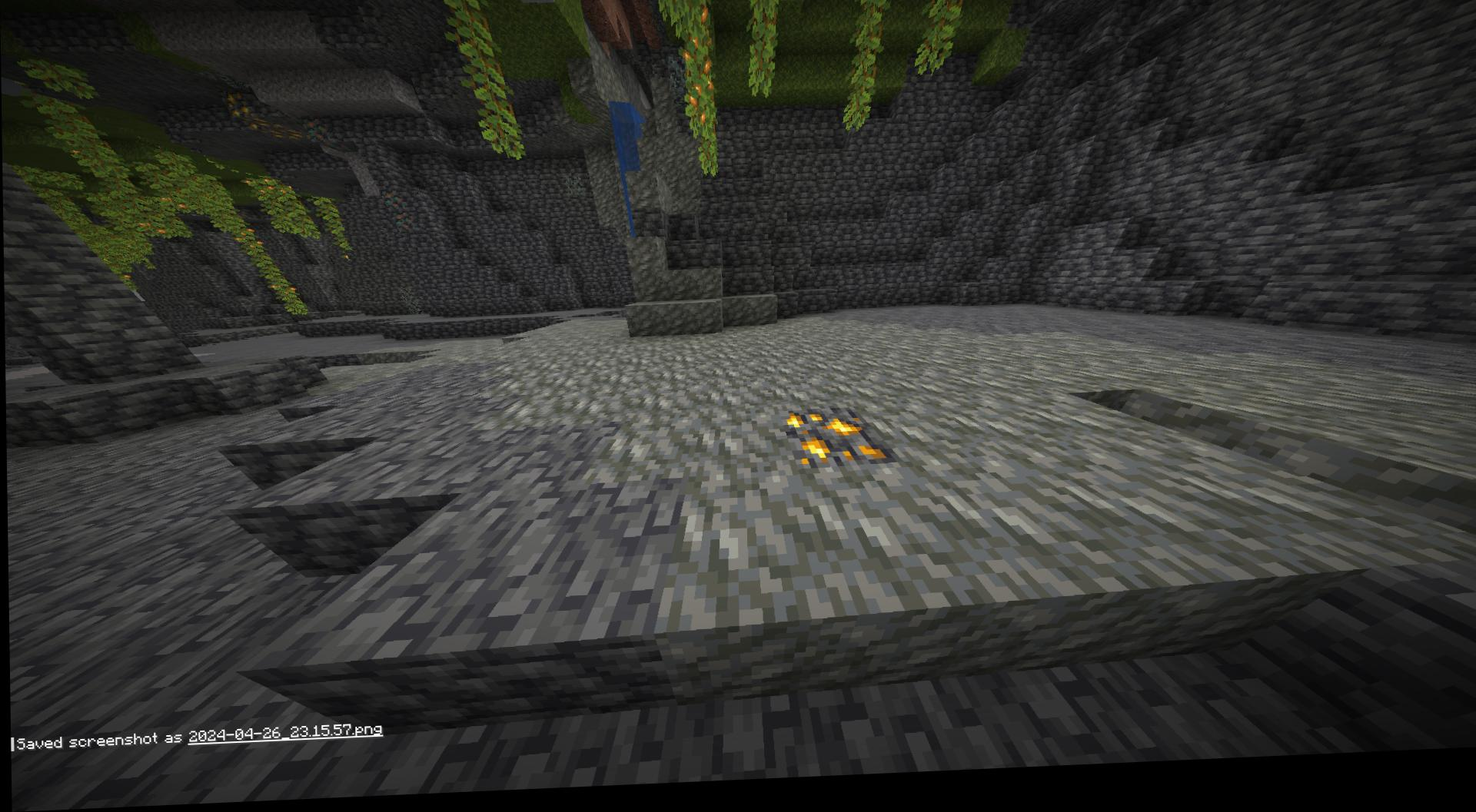gold ore: (786, 411, 890, 480), (229, 96, 305, 151)
